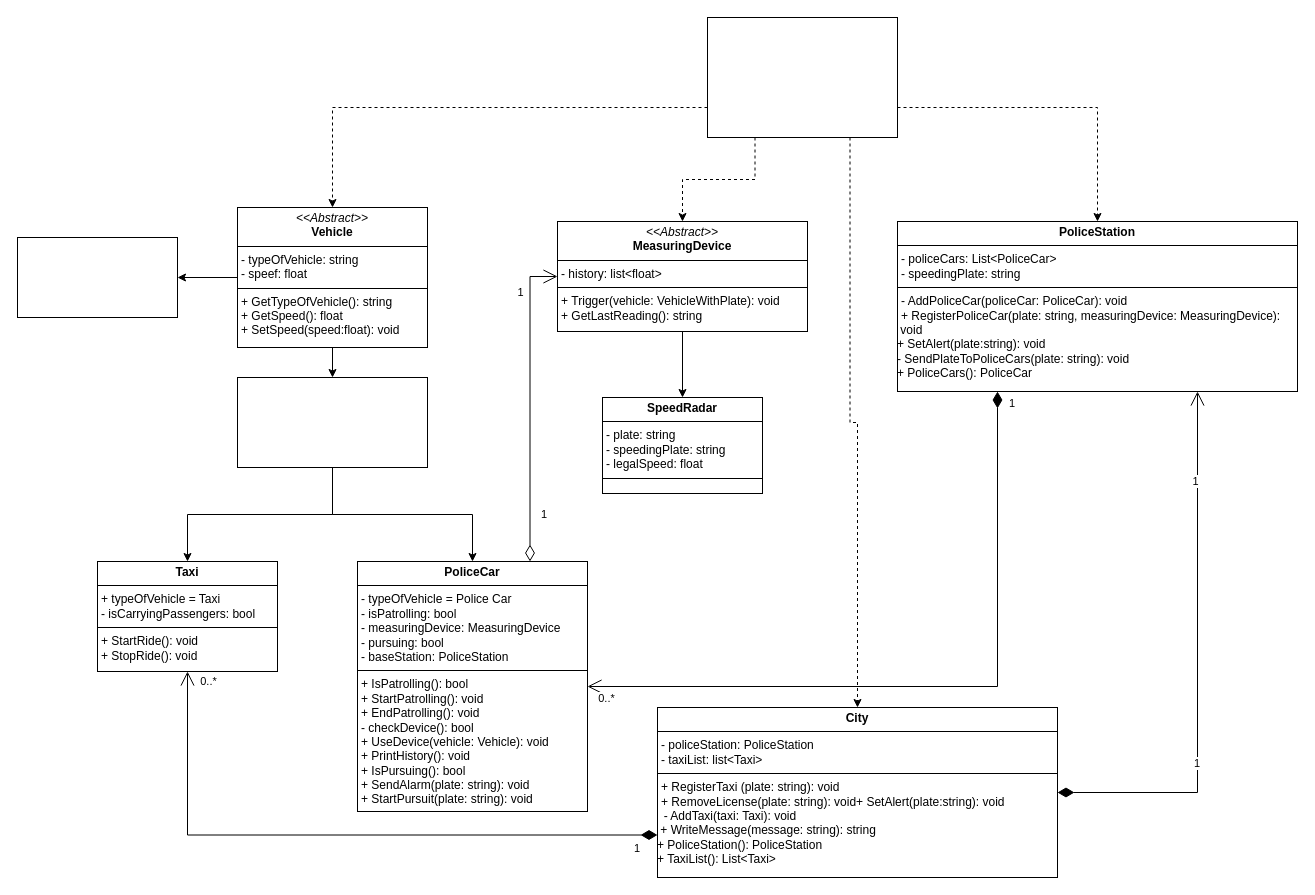
Image size: 1315x895. Some labels were removed from this diagram. The shapes that lost their labels are listed below. From the top down, each one's centre as x and y in pixels, then its label:
pixel 802 77: <<Interface>> IMessageWritter + WriteMessage(message:string): string
pixel 97 277: Scooter - typeOfVehicle = "scooter"
pixel 332 422: <<Abstract>> VehicleWithPlate - plate: string + GetPlate(): string
